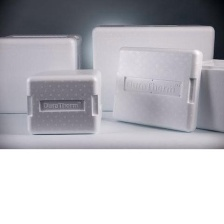foam_box: (88, 19, 218, 117), (108, 44, 211, 135), (0, 28, 86, 117), (19, 66, 106, 136), (193, 55, 224, 136)
